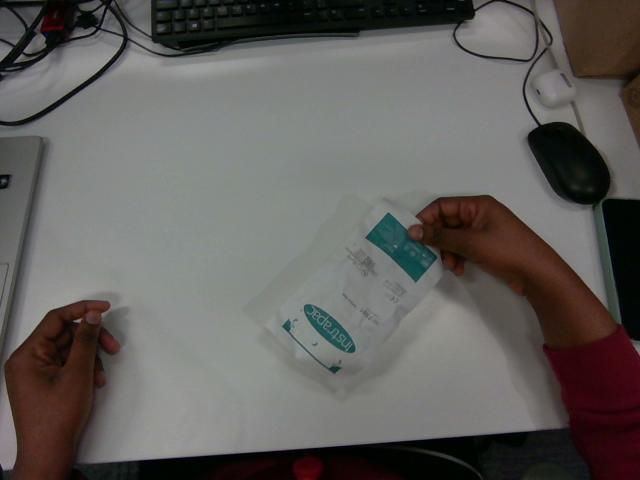gallipot: (267, 199, 442, 386)
